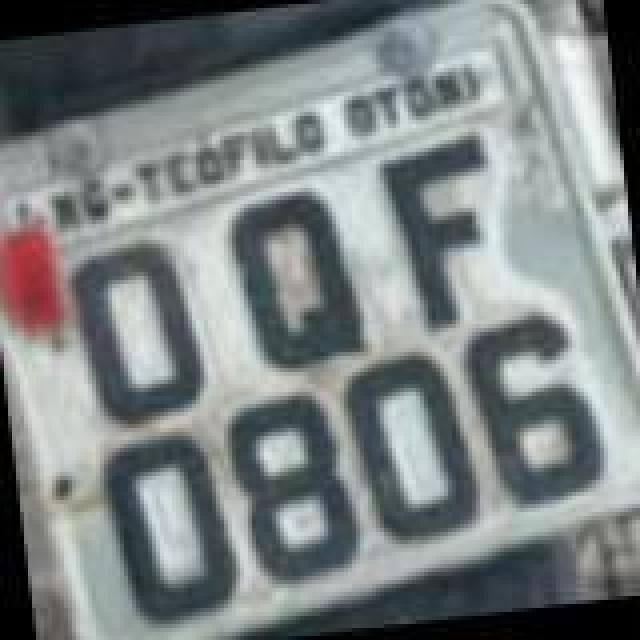6: (458, 306, 614, 518)
8: (218, 380, 374, 588)
F: (380, 126, 516, 338)
O: (342, 346, 490, 550), (104, 428, 248, 628), (66, 232, 214, 424)
Q: (226, 180, 374, 380)
